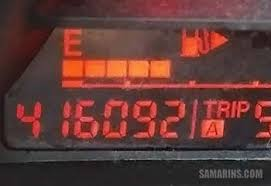Digital_Meter: (8, 92, 269, 148)
